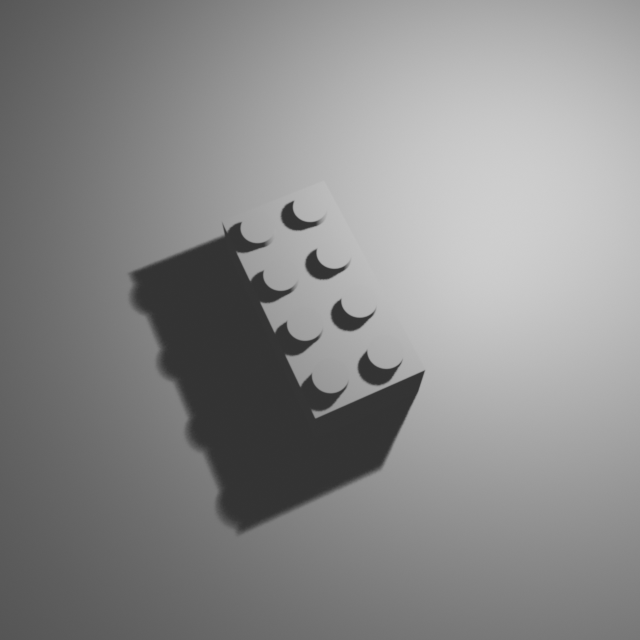lego_2x4: (221, 175, 427, 438)
